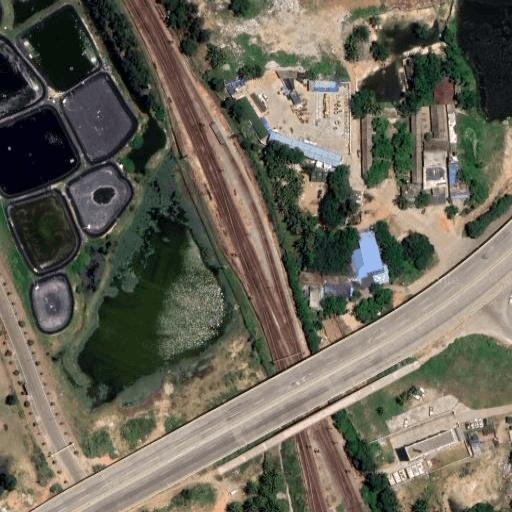building: (267, 131, 345, 169), (405, 429, 457, 459), (238, 98, 269, 140), (356, 230, 383, 274), (412, 111, 422, 182), (347, 249, 368, 281), (434, 74, 453, 105), (424, 166, 447, 187), (423, 187, 446, 205), (362, 116, 369, 174), (430, 105, 446, 130), (308, 284, 324, 309), (367, 269, 389, 287), (447, 104, 457, 143), (322, 274, 351, 287), (298, 272, 323, 285), (405, 463, 425, 479), (385, 469, 406, 484), (423, 140, 448, 152), (424, 152, 445, 166), (259, 116, 273, 136), (449, 183, 469, 197), (421, 108, 430, 138), (310, 169, 330, 182), (228, 80, 245, 95), (315, 81, 340, 91), (284, 78, 299, 93), (349, 188, 362, 205), (402, 185, 417, 199), (280, 68, 299, 79), (334, 286, 351, 298), (448, 165, 456, 184), (404, 63, 416, 75), (289, 91, 300, 104), (456, 427, 465, 441), (343, 263, 353, 275), (471, 443, 481, 455), (448, 152, 457, 165), (281, 85, 291, 96), (361, 277, 370, 289), (452, 83, 460, 95), (324, 285, 335, 293), (434, 130, 444, 138), (298, 283, 307, 290), (309, 81, 315, 91), (451, 143, 457, 152), (509, 431, 512, 447), (298, 71, 305, 76), (304, 290, 309, 295)
